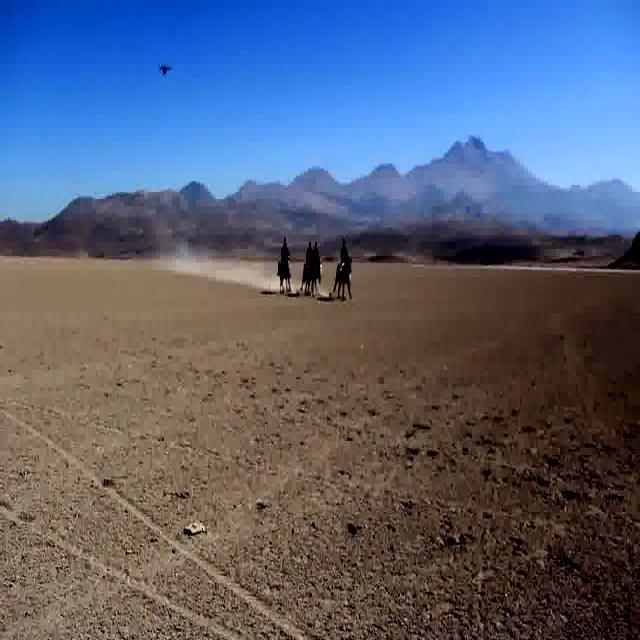drone: (156, 56, 175, 79)
